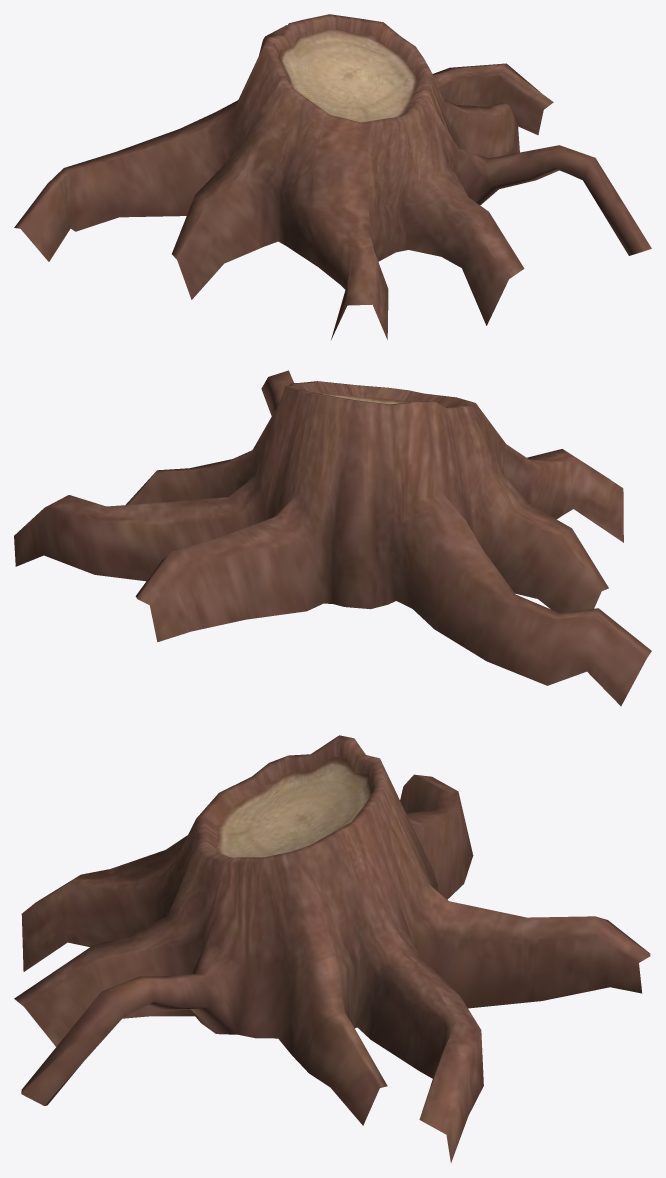
Rendered from stklib_treeStump_a_high.glb.
The picture shows the model from 3 angles, top to bottom: view 1: azimuth 30°, elevation 25°; view 2: azimuth 150°, elevation 25°; view 3: azimuth 270°, elevation 25°; orthographic projection. The views are drawn at different scales.
Visible parts, largest first — view 1: tree_stumps.jpg__; view 2: tree_stumps.jpg__; view 3: tree_stumps.jpg__.
Boxes of the visible parts, box(x1,y1,x2,y2) form: tree_stumps.jpg__: box(14, 14, 651, 339); tree_stumps.jpg__: box(14, 370, 651, 706); tree_stumps.jpg__: box(14, 735, 650, 1162).
Bounding box in the file's own units: 2.43 × 0.9194 × 2.01.
1 material, 1 textured.
